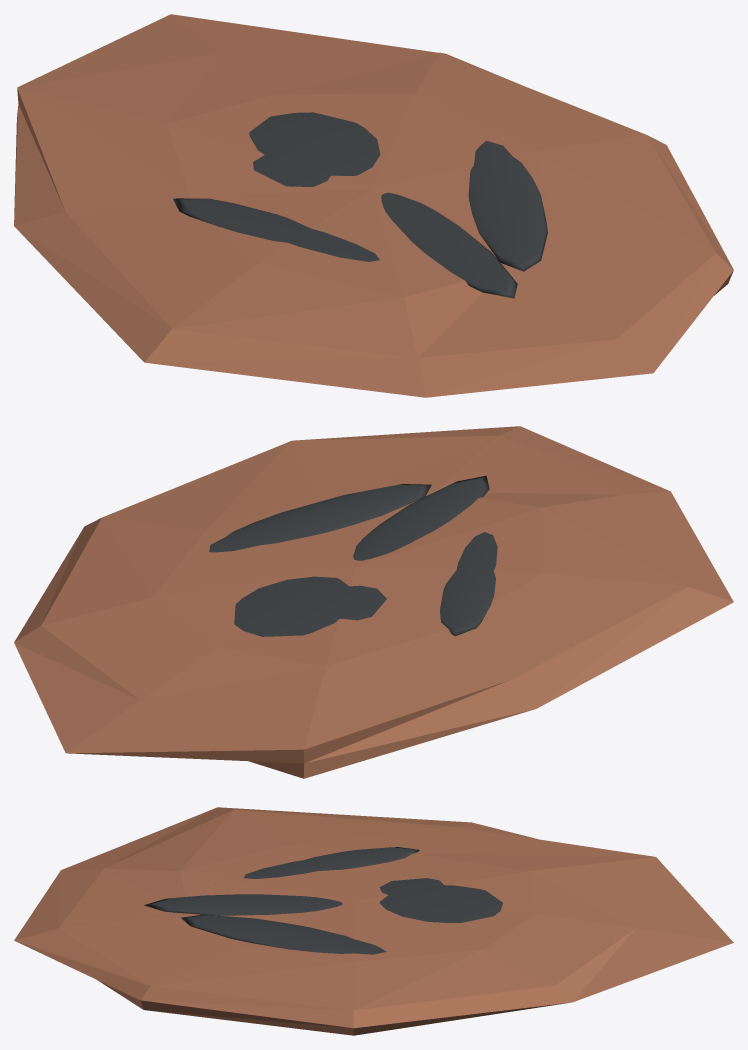
Rendered from primeval-frontier-theropod-track-de242f1c__1773.glb.
The picture shows the model from 3 angles, top to bottom: view 1: azimuth 30°, elevation 25°; view 2: azimuth 150°, elevation 25°; view 3: azimuth 270°, elevation 25°; orthographic projection. The views are drawn at different scales.
Visible parts, largest first — view 1: theropod-track; view 2: theropod-track; view 3: theropod-track.
Boxes of the visible parts, x1=… form: theropod-track: x1=14, y1=14, x2=733, y2=397; theropod-track: x1=14, y1=426, x2=733, y2=778; theropod-track: x1=14, y1=807, x2=733, y2=1035.
Bounding box in the file's own units: 1.57 × 0.1451 × 2.16.
